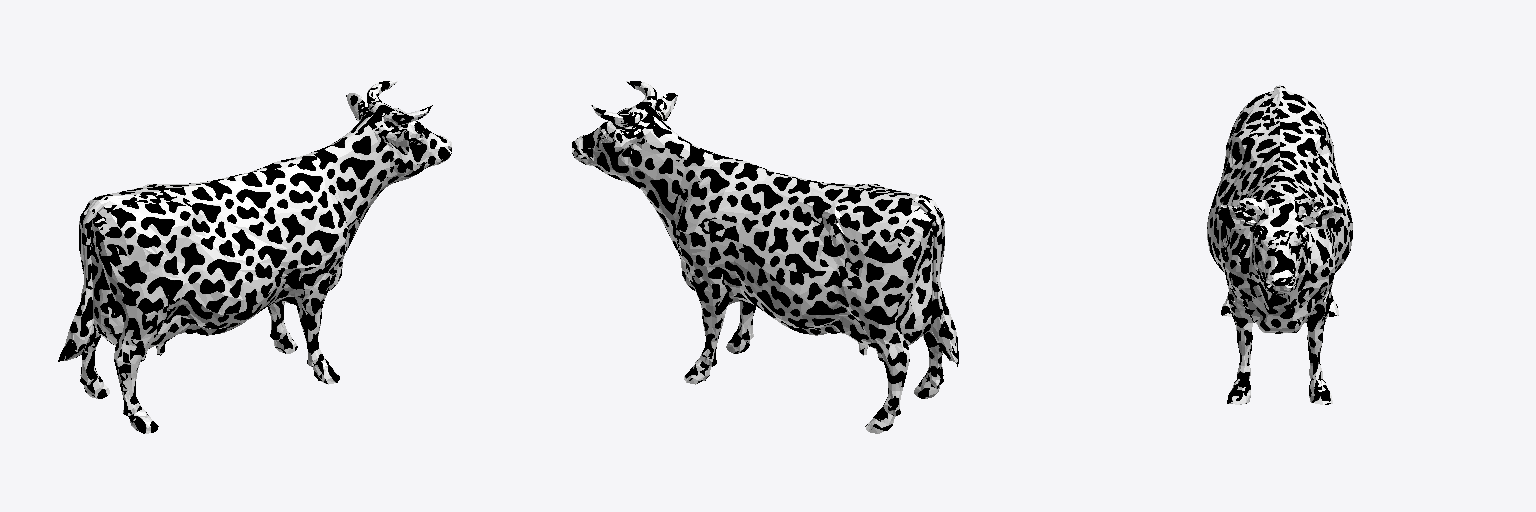
3 renders of one model, left to right at view 1: azimuth 30°, elevation 25°; view 2: azimuth 150°, elevation 25°; view 3: azimuth 270°, elevation 25°, orthographic.
Parts seen in each view (by area): view 1: cow; view 2: cow; view 3: cow.
Part boxes in pixels (left/top/right/bottom): cow: left=58, top=81, right=451, bottom=433; cow: left=572, top=81, right=958, bottom=433; cow: left=1207, top=85, right=1352, bottom=404.
Size of the model in its own units: 21.76 by 13.33 by 7.09.
Materials: 1 (1 with a texture image).